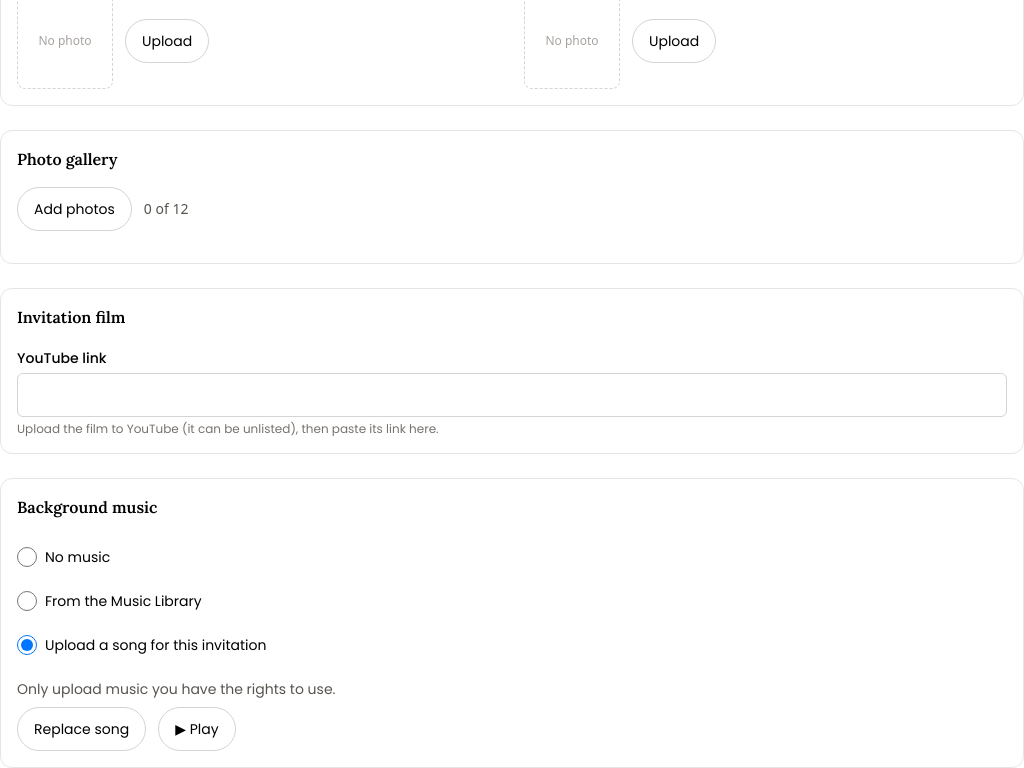
music › notes that the saved song keeps playing when another source is selected
(page scrolled)
Expected: the text "keeps playing" is not shown
Click the radio button labelled "From the Music Library" at (27, 601), box [17,591,37,611]
(page scrolled)
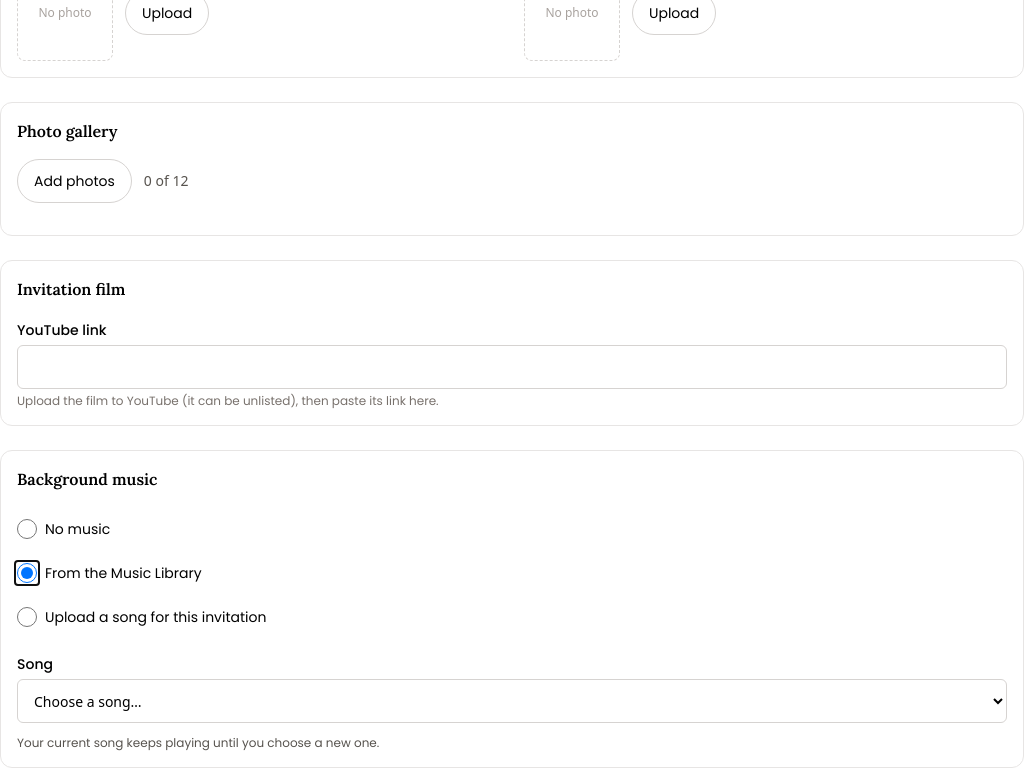
Result: the text "Your current song keeps playing until you choose a new one." is shown at [17,734,379,751]
